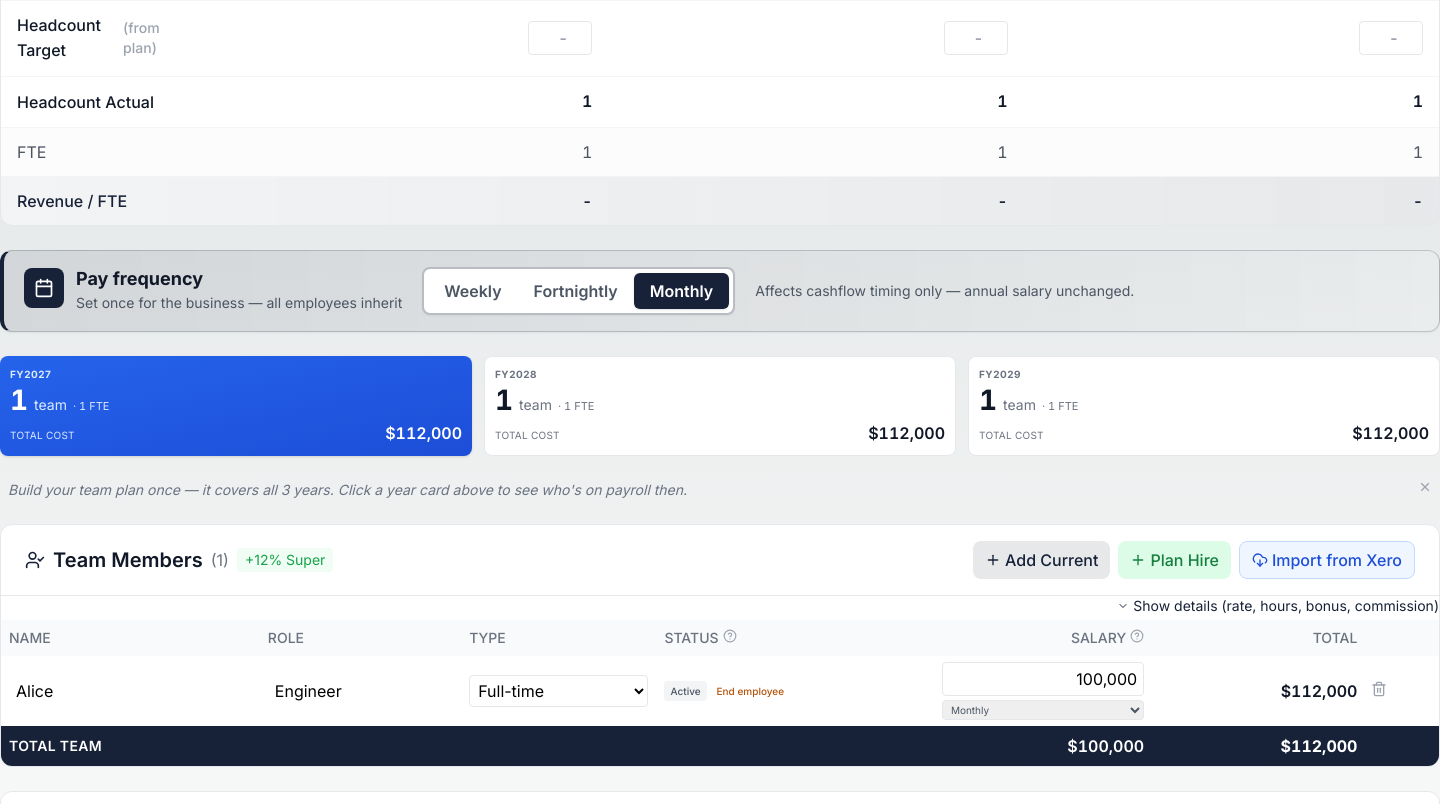
Scenario: Phase 55-01 — UX-S4-04: Step 4 year-card filter › clicking a card sets aria-pressed and surfaces the filter pill with FY date range
This screenshot has width=1440, height=804.
(page scrolled)
Click the button with test id "year-card-2": click(536, 404) [484,356,956,456]
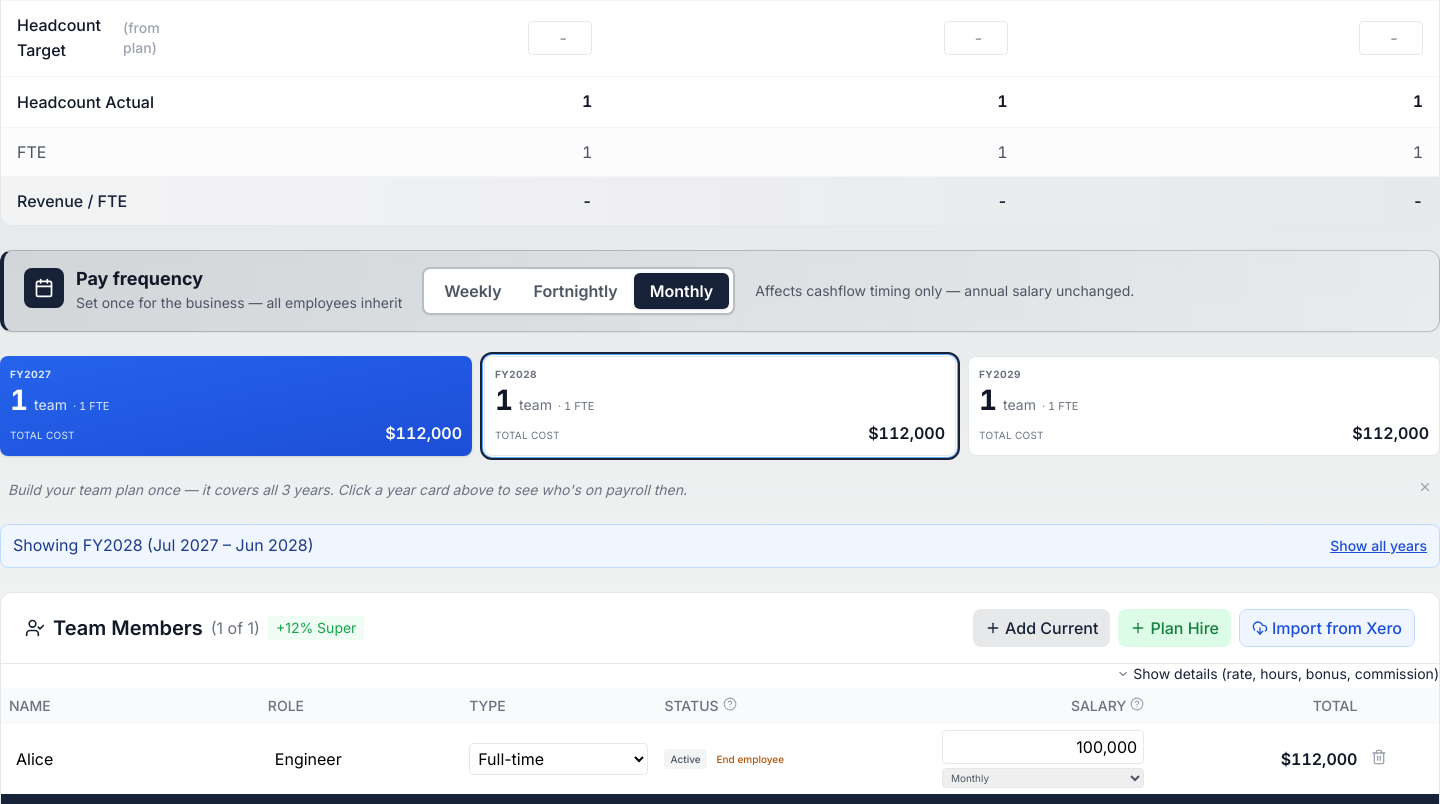
Expected: the element with test id "year-filter-pill" shows "Showing FY2028", [0,524,1439,568]
Expected: the element with test id "year-filter-pill" shows "Jul 2027", [153,535,308,555]
Expected: the element with test id "year-filter-pill" shows "Jun 2028", [153,535,308,555]
